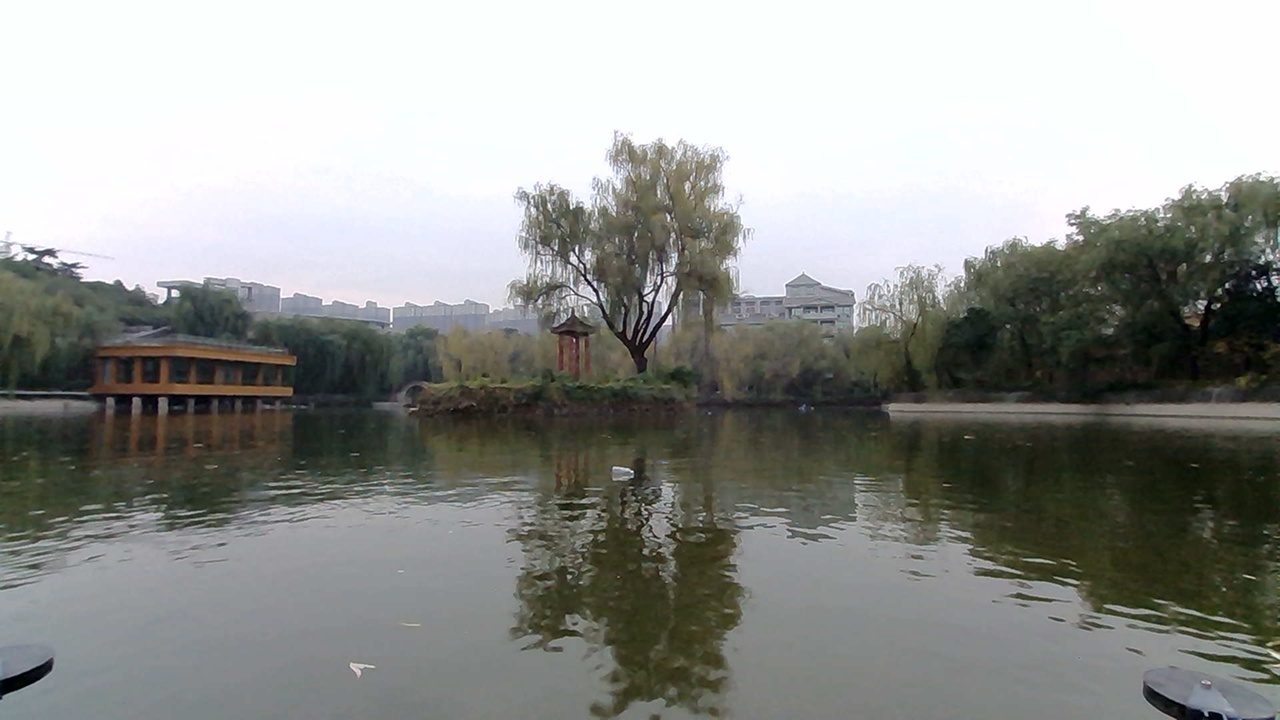bottle: (586, 454, 650, 487)
